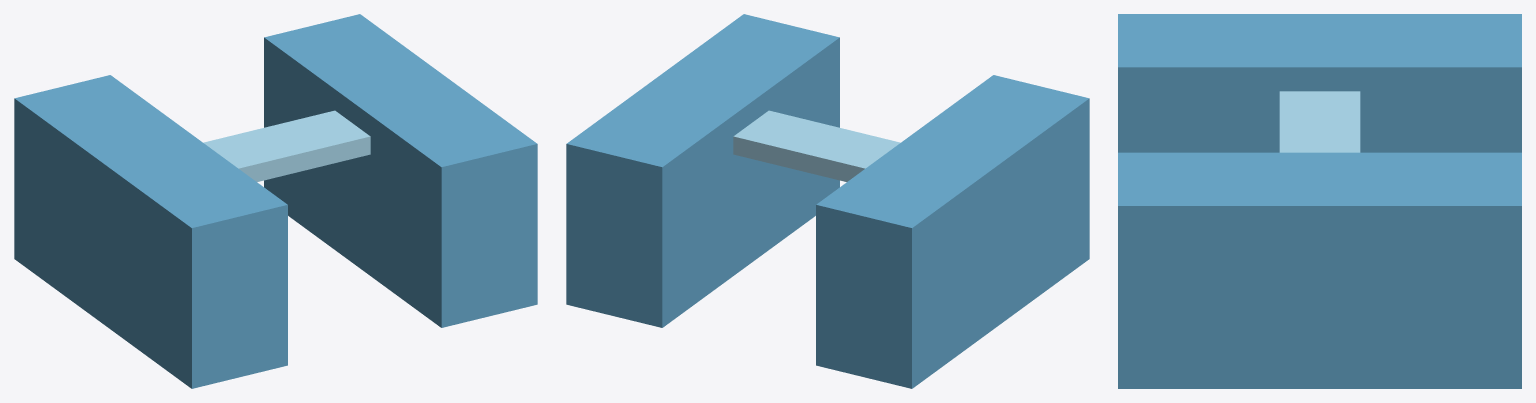
File: rock_winter_chasm_crevasse.glb
3 views of the same model, side by side, from view 1: azimuth 30°, elevation 25°; view 2: azimuth 150°, elevation 25°; view 3: azimuth 270°, elevation 25° (orthographic). The views are drawn at different scales.
Parts seen in each view (by area): view 1: Crevasse_Lip_Left, Crevasse_Lip_Right, Natural_Ice_Span; view 2: Crevasse_Lip_Left, Crevasse_Lip_Right, Natural_Ice_Span; view 3: Crevasse_Lip_Right, Crevasse_Lip_Left, Natural_Ice_Span.
Part boxes in pixels (x1,y1,x2,y2): Crevasse_Lip_Left: [14, 75, 287, 388]; Crevasse_Lip_Right: [264, 14, 537, 327]; Natural_Ice_Span: [203, 110, 370, 181]; Crevasse_Lip_Left: [816, 75, 1089, 388]; Crevasse_Lip_Right: [566, 14, 839, 327]; Natural_Ice_Span: [733, 110, 900, 181]; Crevasse_Lip_Right: [1118, 152, 1521, 388]; Crevasse_Lip_Left: [1118, 14, 1521, 152]; Natural_Ice_Span: [1279, 91, 1360, 152].
Size of the model in its own units: 18 by 8 by 16.
